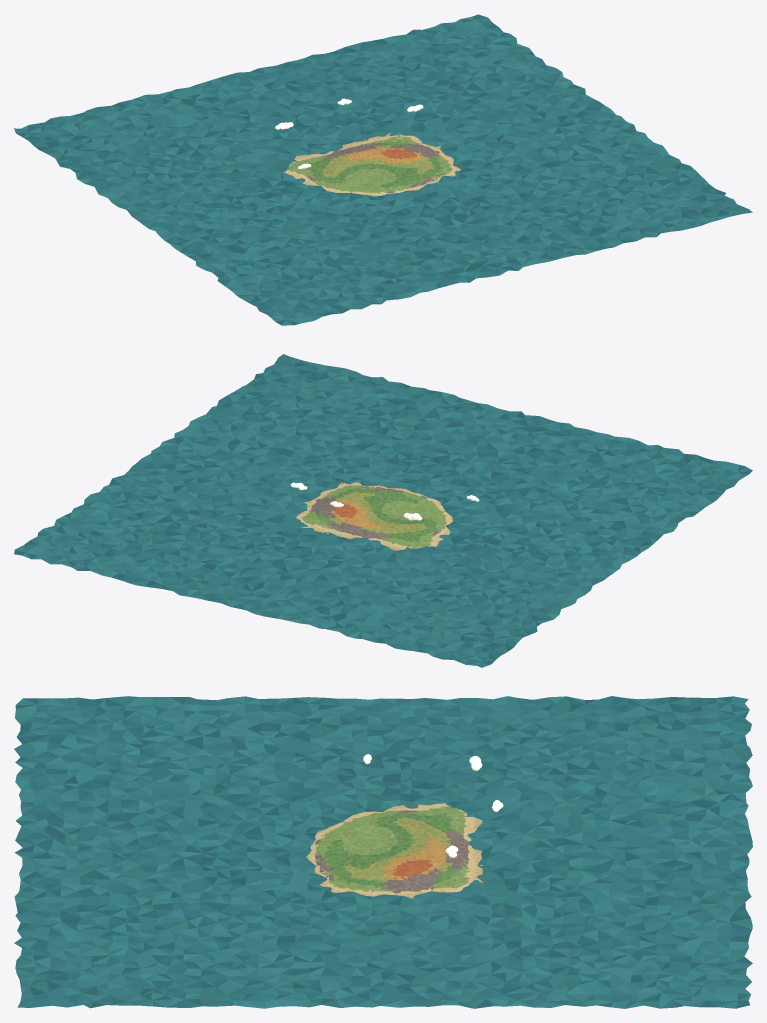
3 views of the same model, one above another, from view 1: azimuth 30°, elevation 25°; view 2: azimuth 150°, elevation 25°; view 3: azimuth 270°, elevation 25° (orthographic). The views are drawn at different scales.
Parts seen in each view (by area): view 1: sea, terrain; view 2: sea, terrain; view 3: sea, terrain.
Part boxes in pixels (left/top/right/bottom): sea: left=14, top=14, right=752, bottom=325; terrain: left=284, top=133, right=460, bottom=196; sea: left=14, top=354, right=752, bottom=667; terrain: left=296, top=482, right=452, bottom=550; sea: left=14, top=696, right=752, bottom=1008; terrain: left=306, top=803, right=482, bottom=898.
Size of what is drawn, in the model's own units: 97.13 by 14.76 by 97.11.
